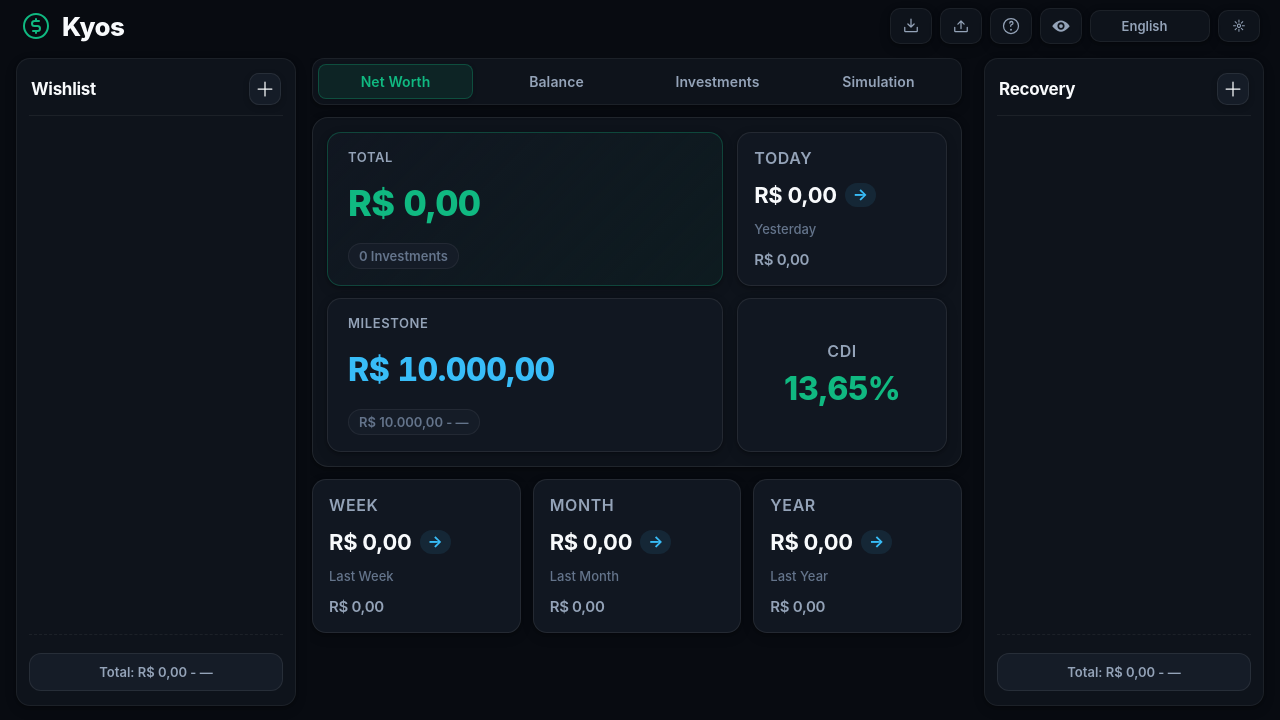
Scenario: opens the About modal with ? button and explains daily income, 10k milestones, recovery, and wishlist
// Click ? button
Click the button named "how kyos works".
click(1011, 26)  # box [990,8,1032,44]
(page scrolled)
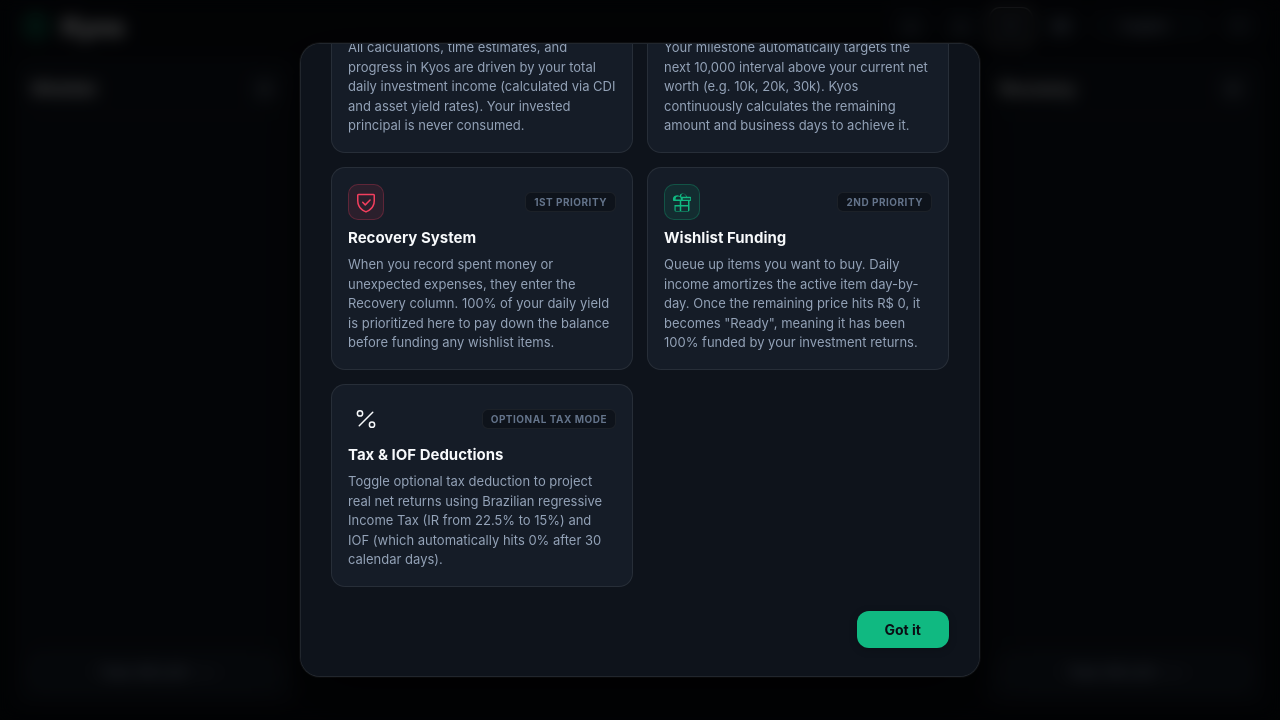
Check: the dialog is shown, box [300,43,980,677]
Check: the heading "Recovery System" is shown, box [348,228,476,247]
Check: the heading "Wishlist Funding" is shown, box [664,228,786,247]
// Close modal via Got it button
Click the button "Got it".
click(903, 629)  # box [856,611,949,648]
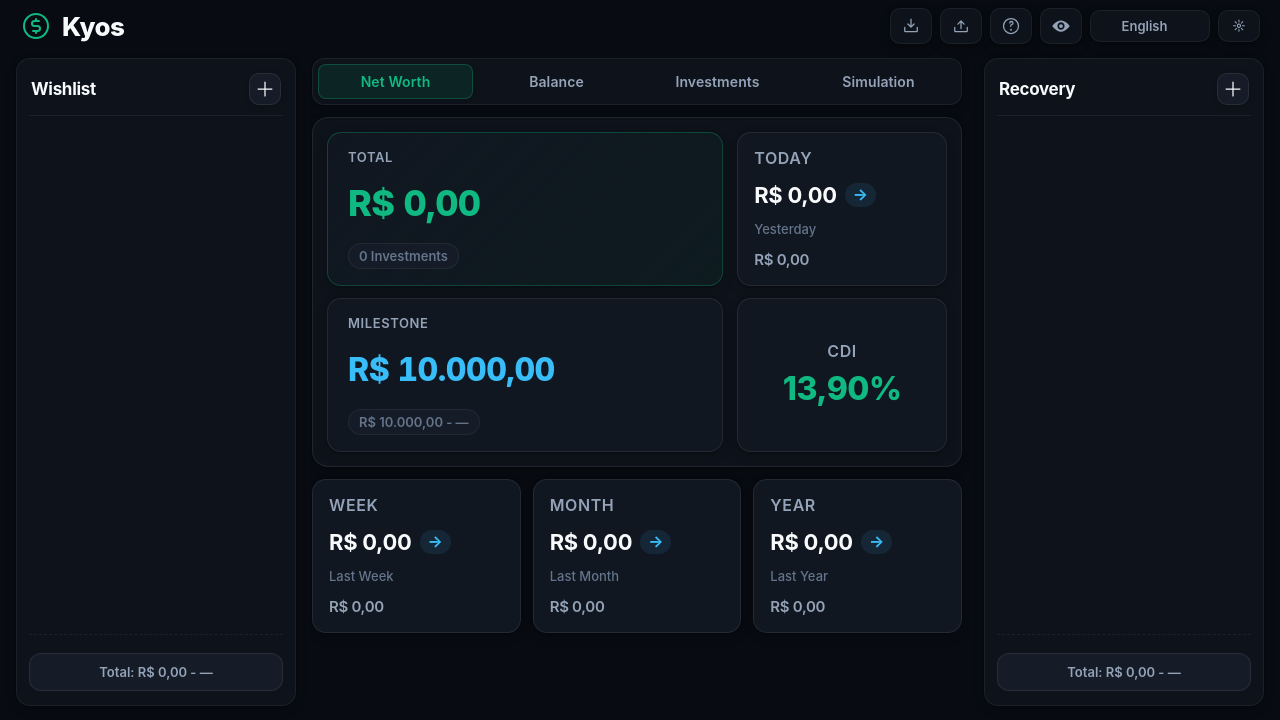
Check: the dialog is gone
